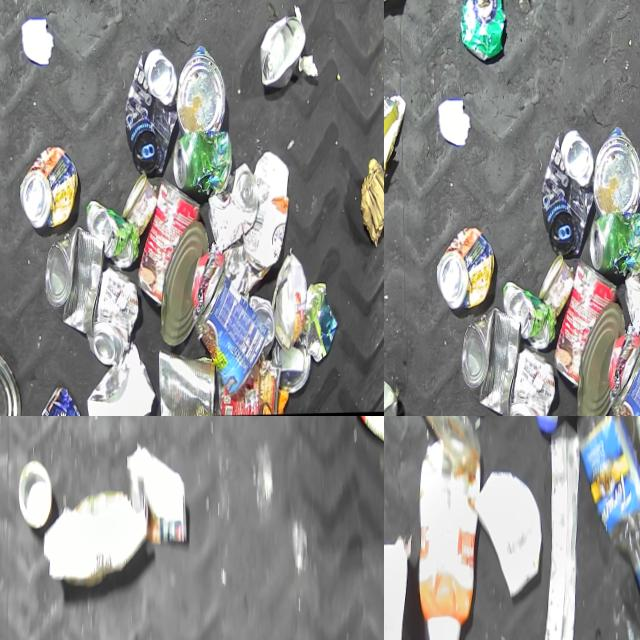can: (192, 272, 268, 399), (135, 180, 202, 307), (552, 261, 619, 388), (43, 226, 106, 339), (123, 48, 179, 175), (540, 129, 596, 256), (460, 306, 523, 416), (160, 222, 210, 347), (576, 303, 626, 416), (86, 267, 140, 366), (18, 145, 78, 230), (436, 226, 494, 311), (206, 162, 258, 253), (175, 45, 227, 134), (592, 125, 640, 214), (157, 347, 216, 416), (170, 130, 230, 196), (502, 280, 556, 351), (85, 199, 138, 270), (503, 347, 557, 416), (258, 11, 306, 87), (214, 362, 281, 416), (270, 253, 306, 353), (587, 210, 640, 276), (458, 0, 505, 61), (18, 459, 54, 532), (120, 173, 158, 237), (538, 254, 574, 318), (270, 340, 310, 395), (608, 352, 640, 416), (39, 382, 95, 416), (248, 295, 274, 359), (622, 243, 640, 333), (0, 342, 21, 416)
milk_jug: (513, 416, 600, 448)
